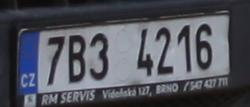1: (178, 25, 191, 73)
2: (156, 27, 174, 74)
3: (90, 32, 108, 79)
4: (137, 29, 153, 76)
6: (195, 24, 212, 69)
7: (47, 37, 63, 85)
B: (70, 35, 85, 83)
